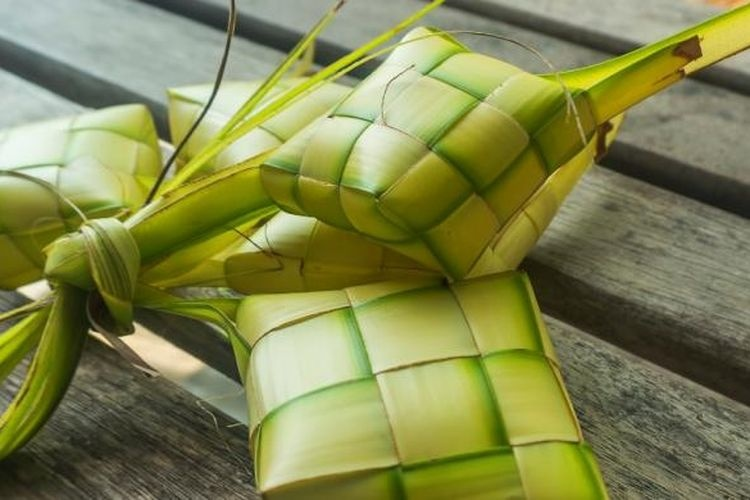ketupat: (237, 267, 611, 500), (259, 26, 594, 277)
